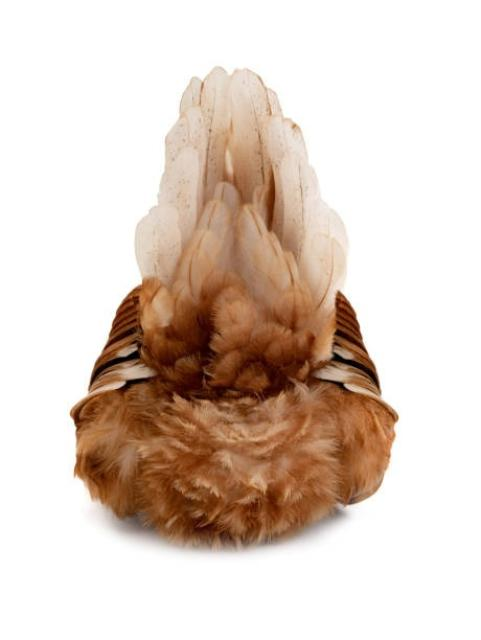Chicken: (72, 66, 396, 550)
